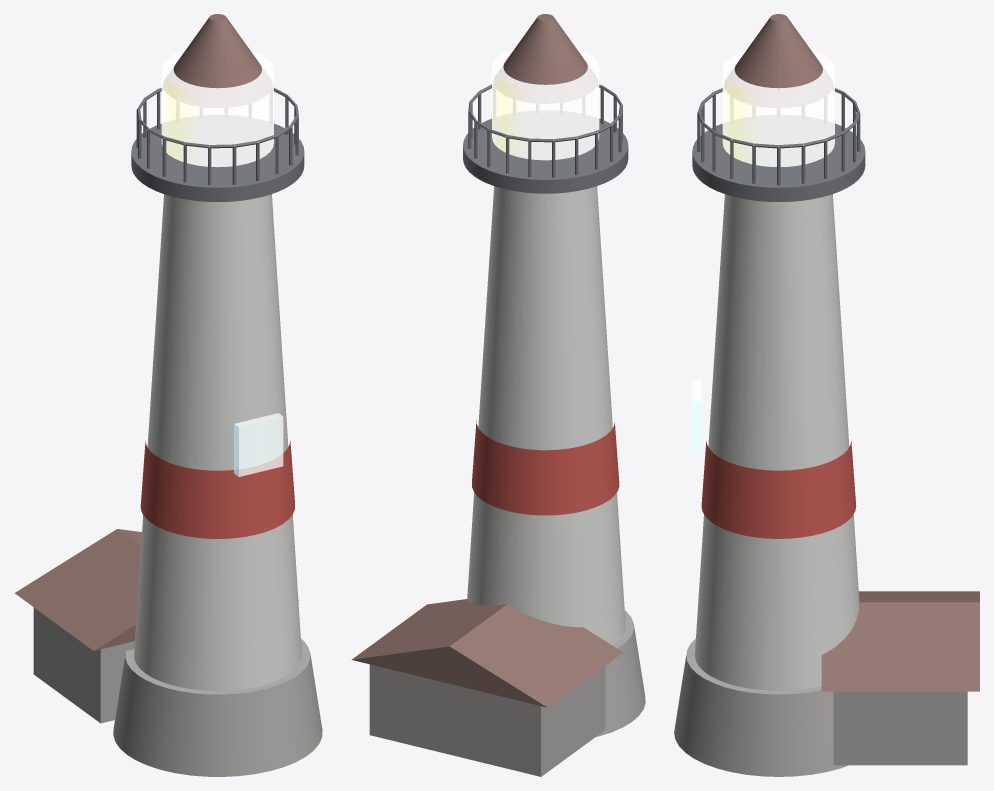
Rendered from lighthouse.gltf.
3 renders of one model, left to right at view 1: azimuth 30°, elevation 25°; view 2: azimuth 150°, elevation 25°; view 3: azimuth 270°, elevation 25°, orthographic. The views are drawn at different scales.
Visible parts, largest first — view 1: lighthouse-tower, lighthouse-keeper-house, lighthouse-gallery-rail; view 2: lighthouse-tower, lighthouse-keeper-house, lighthouse-gallery-rail; view 3: lighthouse-tower, lighthouse-keeper-house, lighthouse-gallery-rail.
Part boxes in pixels (x1=…): lighthouse-tower: x1=33, y1=50, x2=322, y2=776; lighthouse-keeper-house: x1=14, y1=14, x2=298, y2=650; lighthouse-gallery-rail: x1=136, y1=87, x2=298, y2=185; lighthouse-tower: x1=369, y1=49, x2=645, y2=776; lighthouse-keeper-house: x1=351, y1=14, x2=623, y2=707; lighthouse-gallery-rail: x1=468, y1=84, x2=622, y2=177; lighthouse-tower: x1=674, y1=50, x2=967, y2=776; lighthouse-keeper-house: x1=692, y1=14, x2=979, y2=691; lighthouse-gallery-rail: x1=697, y1=88, x2=860, y2=185.
Size of the model in its own units: 3.9 by 12.95 by 5.02.
